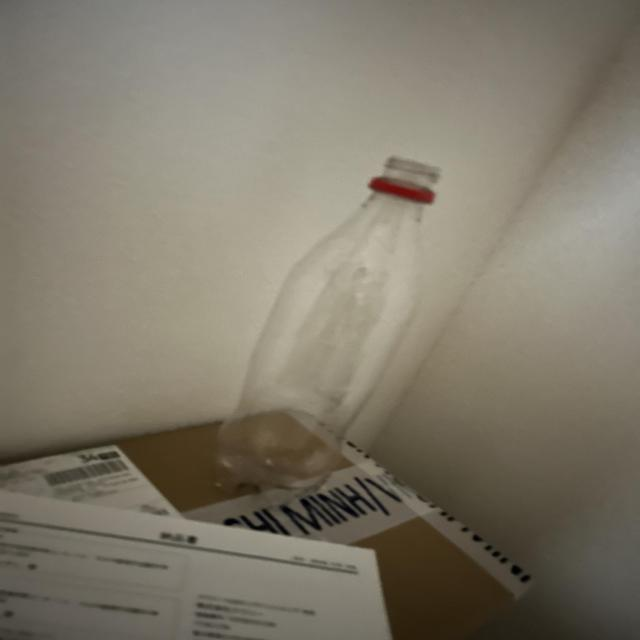empty: (216, 157, 439, 497)
